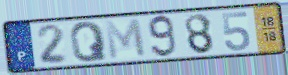2: (35, 23, 69, 65)
5: (220, 10, 252, 53)
8: (183, 12, 215, 55)
9: (148, 13, 179, 60)
M: (103, 17, 149, 62)
Q: (68, 20, 110, 64)
